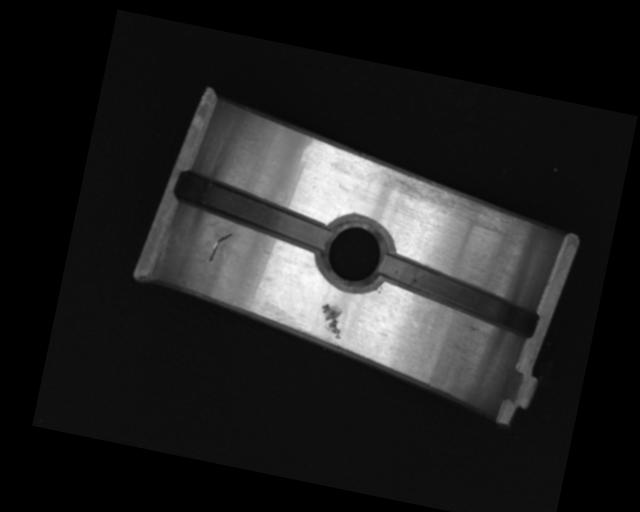bruise: (316, 301, 348, 340)
gap: (373, 253, 545, 338), (170, 169, 336, 252)
hole: (314, 212, 396, 295)
nick: (207, 229, 232, 265)
scratch: (373, 166, 516, 237)
